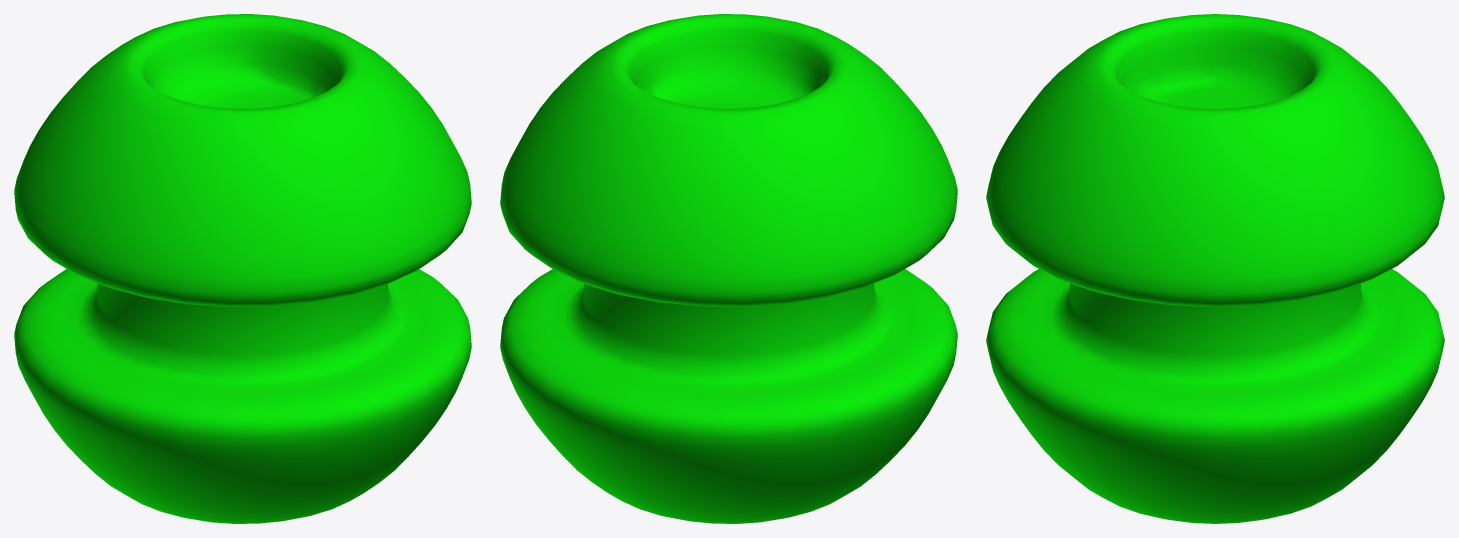
Rendered from BC_sphereHighPoly_export.fbx.
3 renders of one model, left to right at view 1: azimuth 30°, elevation 25°; view 2: azimuth 150°, elevation 25°; view 3: azimuth 270°, elevation 25°, orthographic.
Parts seen in each view (by area): view 1: sphereHigh; view 2: sphereHigh; view 3: sphereHigh.
Boxes of the visible parts, x1,y1,x2,y2 form: sphereHigh: (14,14,471,523); sphereHigh: (500,14,957,523); sphereHigh: (986,14,1444,523).
Bounding box in the file's own units: 42.38 × 41.78 × 42.38.
